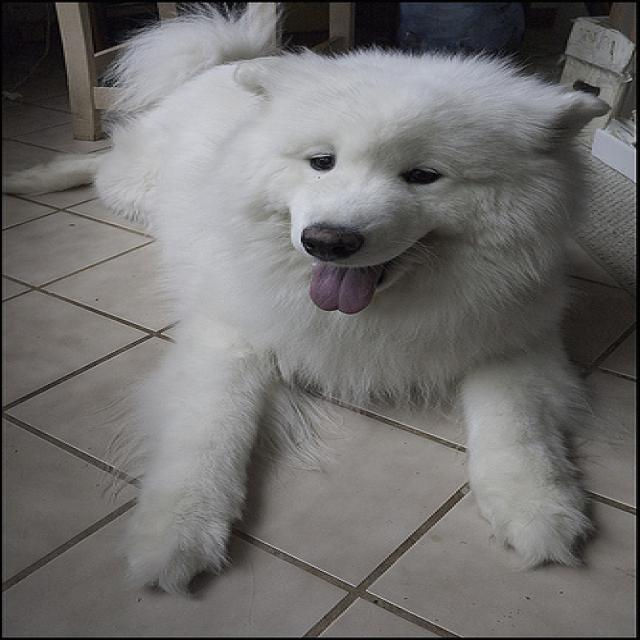dog-samoyed: (2, 1, 636, 605)
